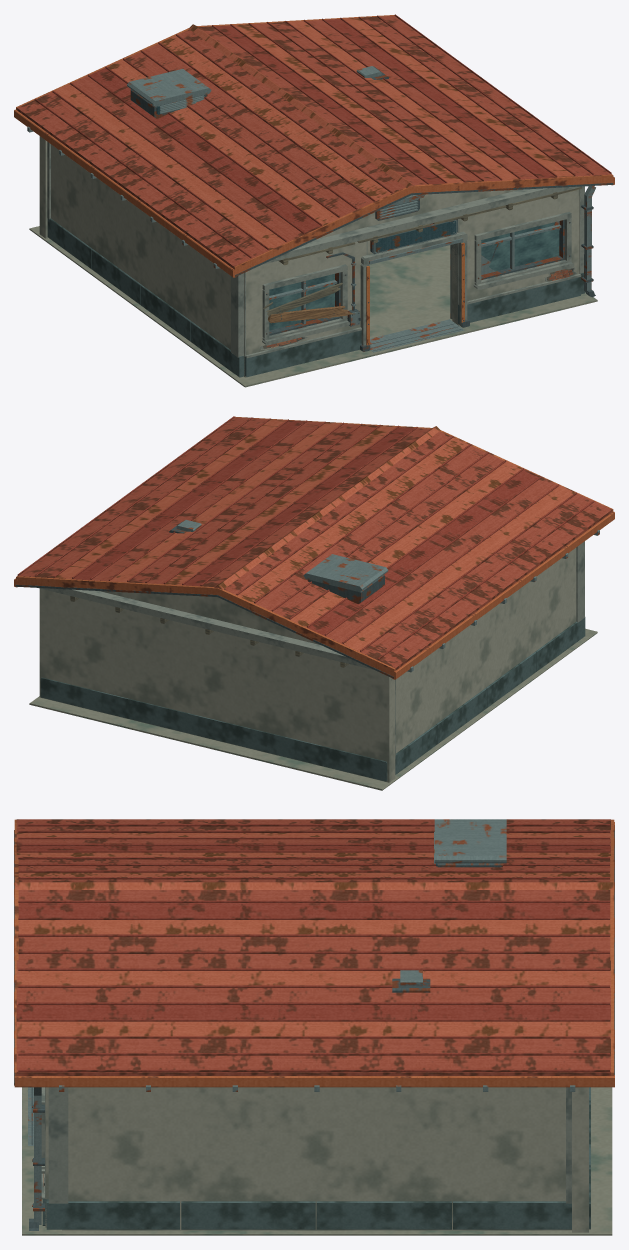
Rendered from station_shell.glb.
The picture shows the model from 3 angles, top to bottom: view 1: azimuth 30°, elevation 25°; view 2: azimuth 150°, elevation 25°; view 3: azimuth 270°, elevation 25°; orthographic projection. The views are drawn at different scales.
Visible parts, largest first — view 1: Ventilated_gable_and_roof, Masonry_and_floor, Deep_window_reveals, Entrance_portal_and_sign, Rusty_service_fittings, Broken_boards_and_spalled_render; view 2: Ventilated_gable_and_roof, Masonry_and_floor, Rusty_service_fittings; view 3: Ventilated_gable_and_roof, Masonry_and_floor, Rusty_service_fittings.
Part boxes in pixels (box(x1,y1,x2,y2)): Ventilated_gable_and_roof: box(14, 14, 614, 277); Masonry_and_floor: box(29, 136, 597, 387); Deep_window_reveals: box(262, 212, 574, 345); Entrance_portal_and_sign: box(360, 219, 469, 352); Rusty_service_fittings: box(127, 66, 595, 326); Broken_boards_and_spalled_render: box(260, 267, 576, 349); Ventilated_gable_and_roof: box(14, 416, 614, 679); Masonry_and_floor: box(29, 541, 597, 790); Rusty_service_fittings: box(169, 520, 388, 603); Ventilated_gable_and_roof: box(14, 819, 614, 1091); Masonry_and_floor: box(22, 1087, 612, 1235); Rusty_service_fittings: box(29, 819, 506, 1230).
Bounding box in the file's own units: 11.54 × 4.75 × 11.41.
Materials: 18 (18 with a texture image).
